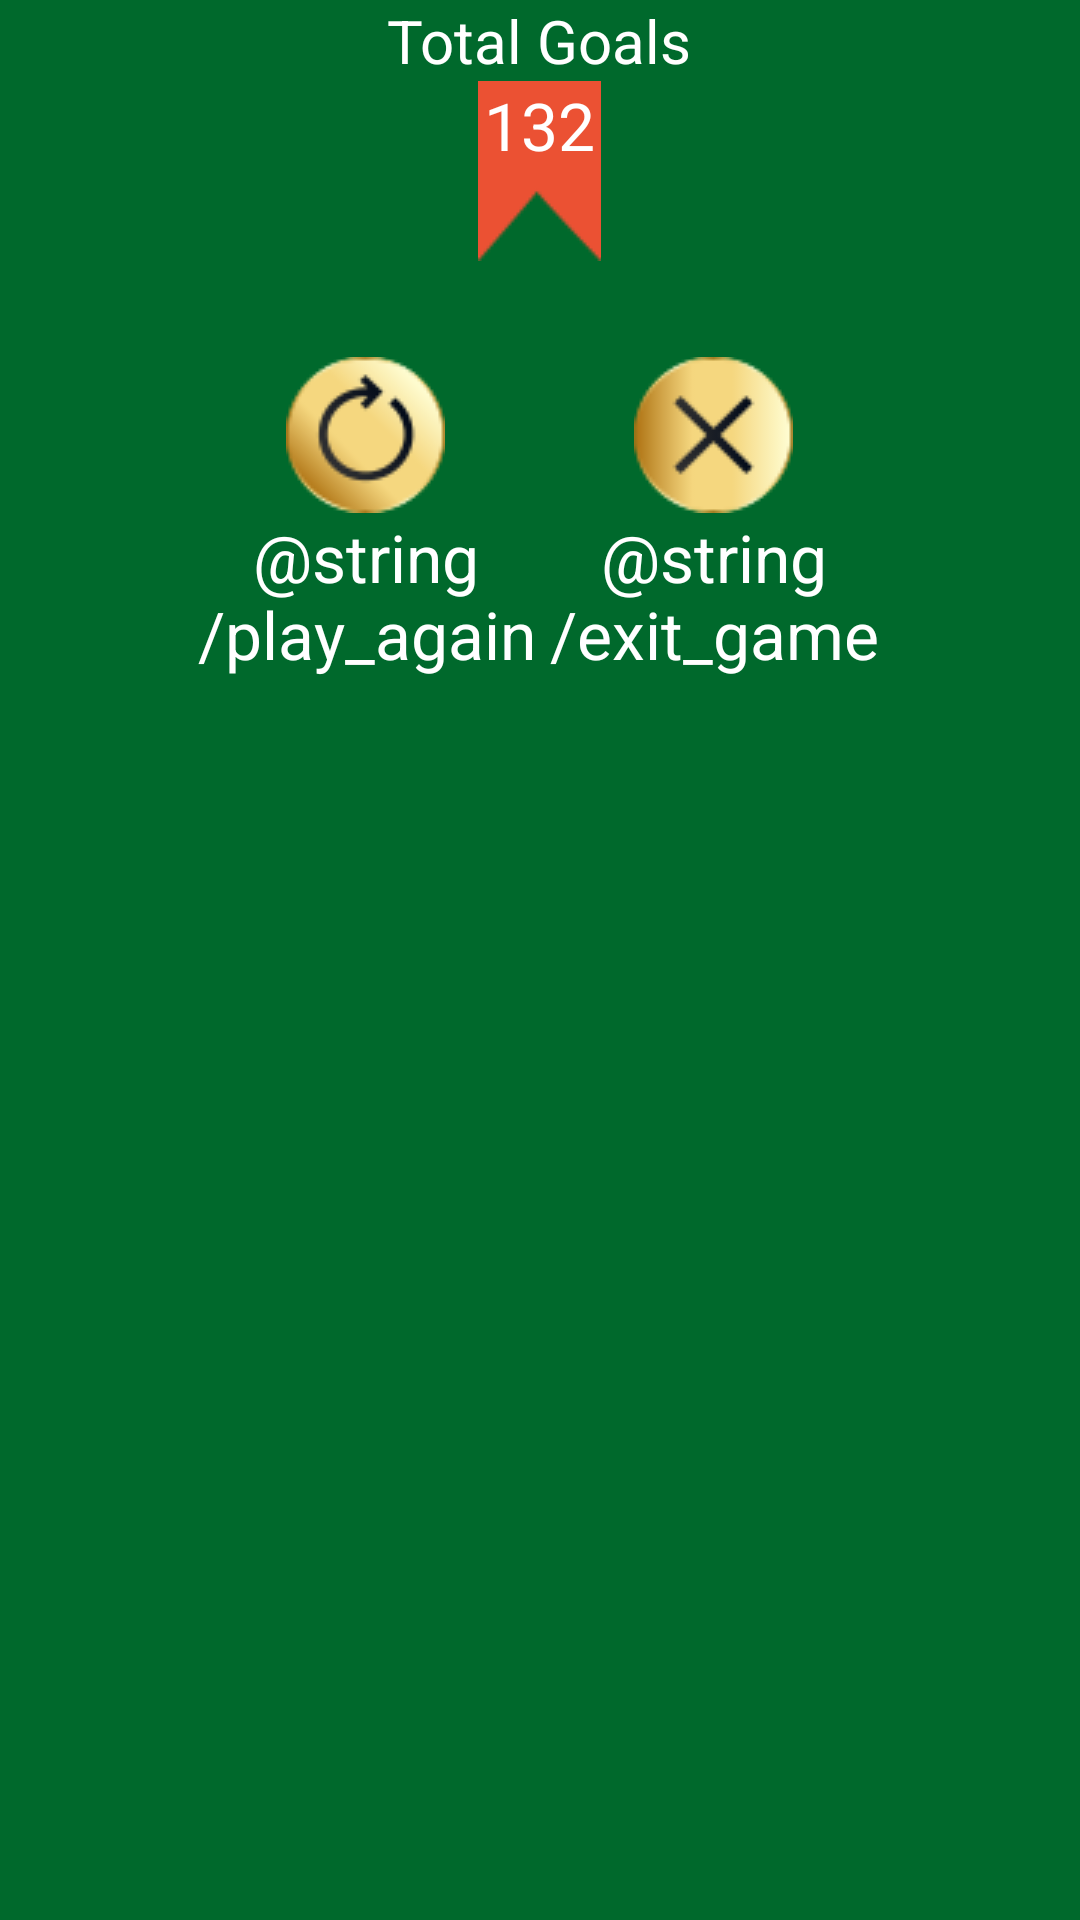

Named icons in this screenshot (1080×1920) and their bounding boxes, bbox(x1, y1, x2, y2):
replay: bbox(286, 357, 445, 513)
total flag: bbox(478, 81, 601, 261)
